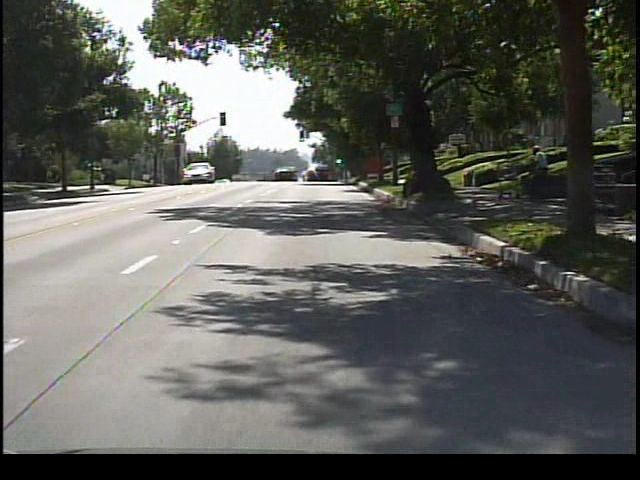person: (524, 142, 554, 204)
